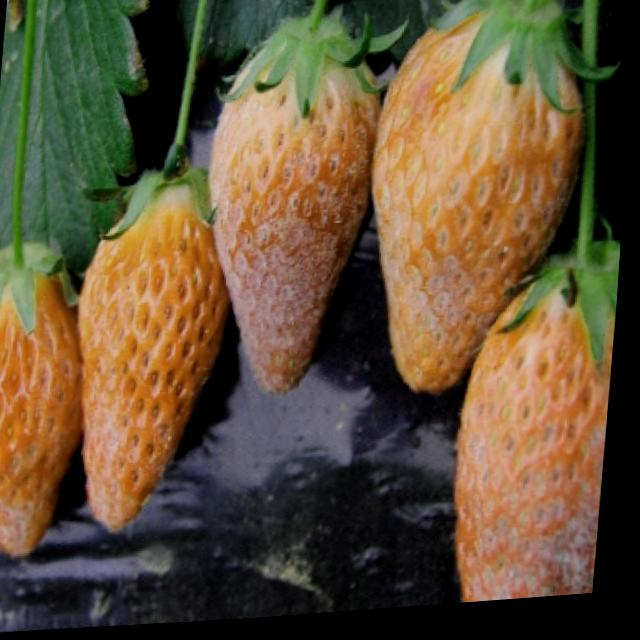Powdery Mildew Fruit: (376, 0, 588, 401), (209, 17, 388, 399), (460, 251, 625, 611), (81, 351, 209, 535), (0, 354, 88, 561)
